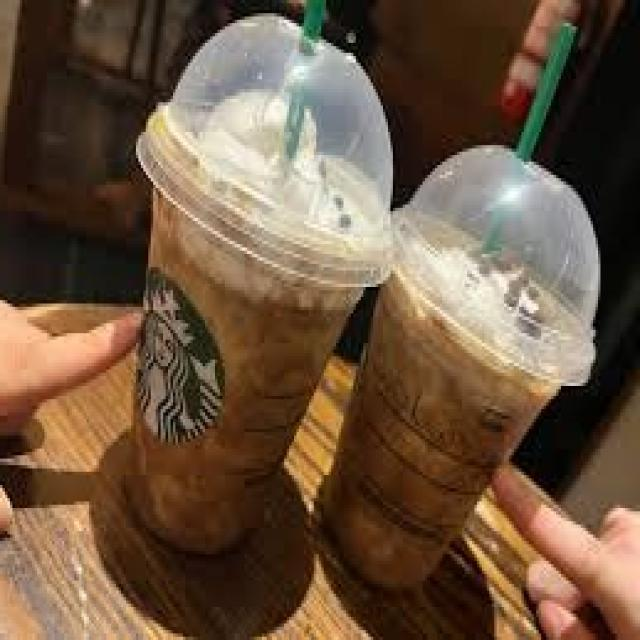starbucks: (134, 262, 225, 455)
